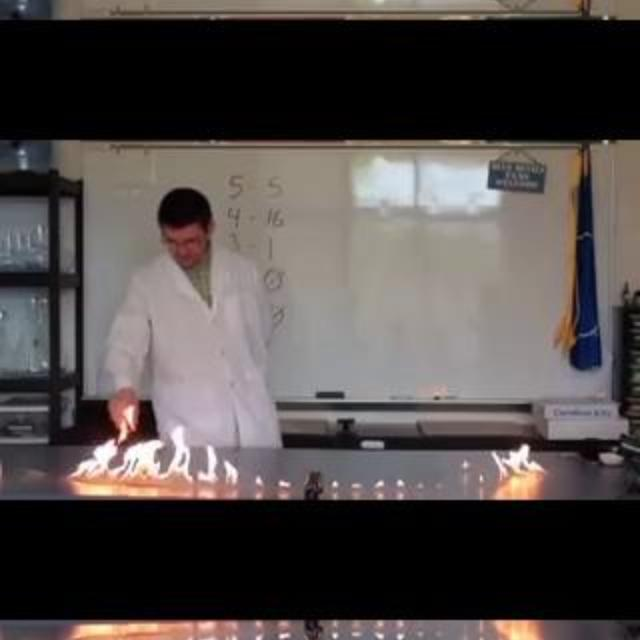smoke: (61, 437, 165, 484), (489, 433, 549, 485), (61, 622, 217, 640), (166, 422, 192, 485), (197, 440, 220, 486), (223, 457, 240, 486)
